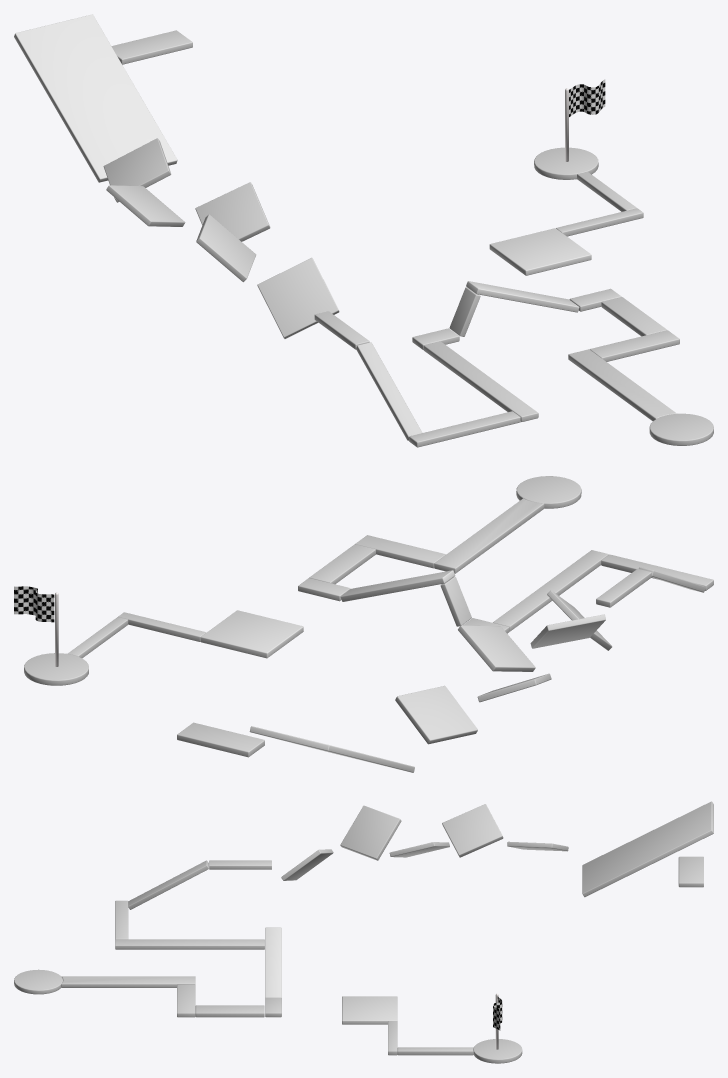
The model's file is level-1.glb.
The picture shows the model from 3 angles, top to bottom: view 1: azimuth 30°, elevation 25°; view 2: azimuth 150°, elevation 25°; view 3: azimuth 270°, elevation 25°; orthographic projection. The views are drawn at different scales.
Parts seen in each view (by area): view 1: Cube Slip, Cube.012, Cube Fling Back, Cube.014, Cube, Cube.004, Cube.016, Cube.013, Cube.002, Start, Cube.015, Finish (+10 smaller); view 2: Cube Fling Back, Cube.016, Cube, Cube.004, Cube.014, Finish, Cube.018, Start, Cube.013, Cube Disappear, Cube.001, Cube Slip (+10 smaller); view 3: Cube Slip, Cube.013, Cube.015, Cube.004, Cube Fling Back, Cube, Cube Disappear, Start, Finish, Cube.009, Cube.002, Cube.018 (+7 smaller).
Part boxes in pixels (x1,y1,x2,y2): Cube Slip: [14, 14, 177, 182]; Cube.012: [257, 257, 339, 338]; Cube Fling Back: [489, 228, 591, 275]; Cube.014: [195, 182, 270, 241]; Cube: [568, 349, 676, 421]; Cube.004: [423, 341, 538, 421]; Cube.016: [103, 138, 171, 202]; Cube.013: [196, 214, 256, 282]; Cube.002: [356, 342, 422, 440]; Start: [649, 413, 713, 445]; Cube.015: [106, 185, 185, 226]; Finish: [534, 147, 598, 179]; Cube Fling Back: [200, 610, 303, 658]; Cube.016: [395, 685, 477, 744]; Cube: [434, 498, 544, 573]; Cube.004: [493, 550, 608, 631]; Cube.014: [458, 625, 535, 671]; Finish: [24, 653, 88, 685]; Cube.018: [177, 722, 264, 757]; Start: [516, 476, 581, 508]; Cube.013: [530, 614, 605, 648]; Cube Disappear: [340, 570, 455, 601]; Cube.001: [355, 535, 445, 568]; Cube Slip: [249, 726, 414, 772]; Cube Slip: [582, 801, 713, 897]; Cube.013: [340, 805, 401, 860]; Cube.015: [442, 804, 503, 857]; Cube.004: [115, 939, 264, 949]; Cube Fling Back: [342, 996, 397, 1024]; Cube: [61, 976, 195, 987]; Cube Disappear: [265, 927, 281, 997]; Start: [14, 969, 62, 994]; Finish: [473, 1039, 522, 1063]; Cube.009: [195, 1005, 264, 1017]; Cube.002: [128, 860, 208, 909]; Cube.018: [678, 856, 703, 887].
Size of the model in its own units: 62.92 by 15.5 by 98.56.
Materials: 6 (1 with a texture image).
